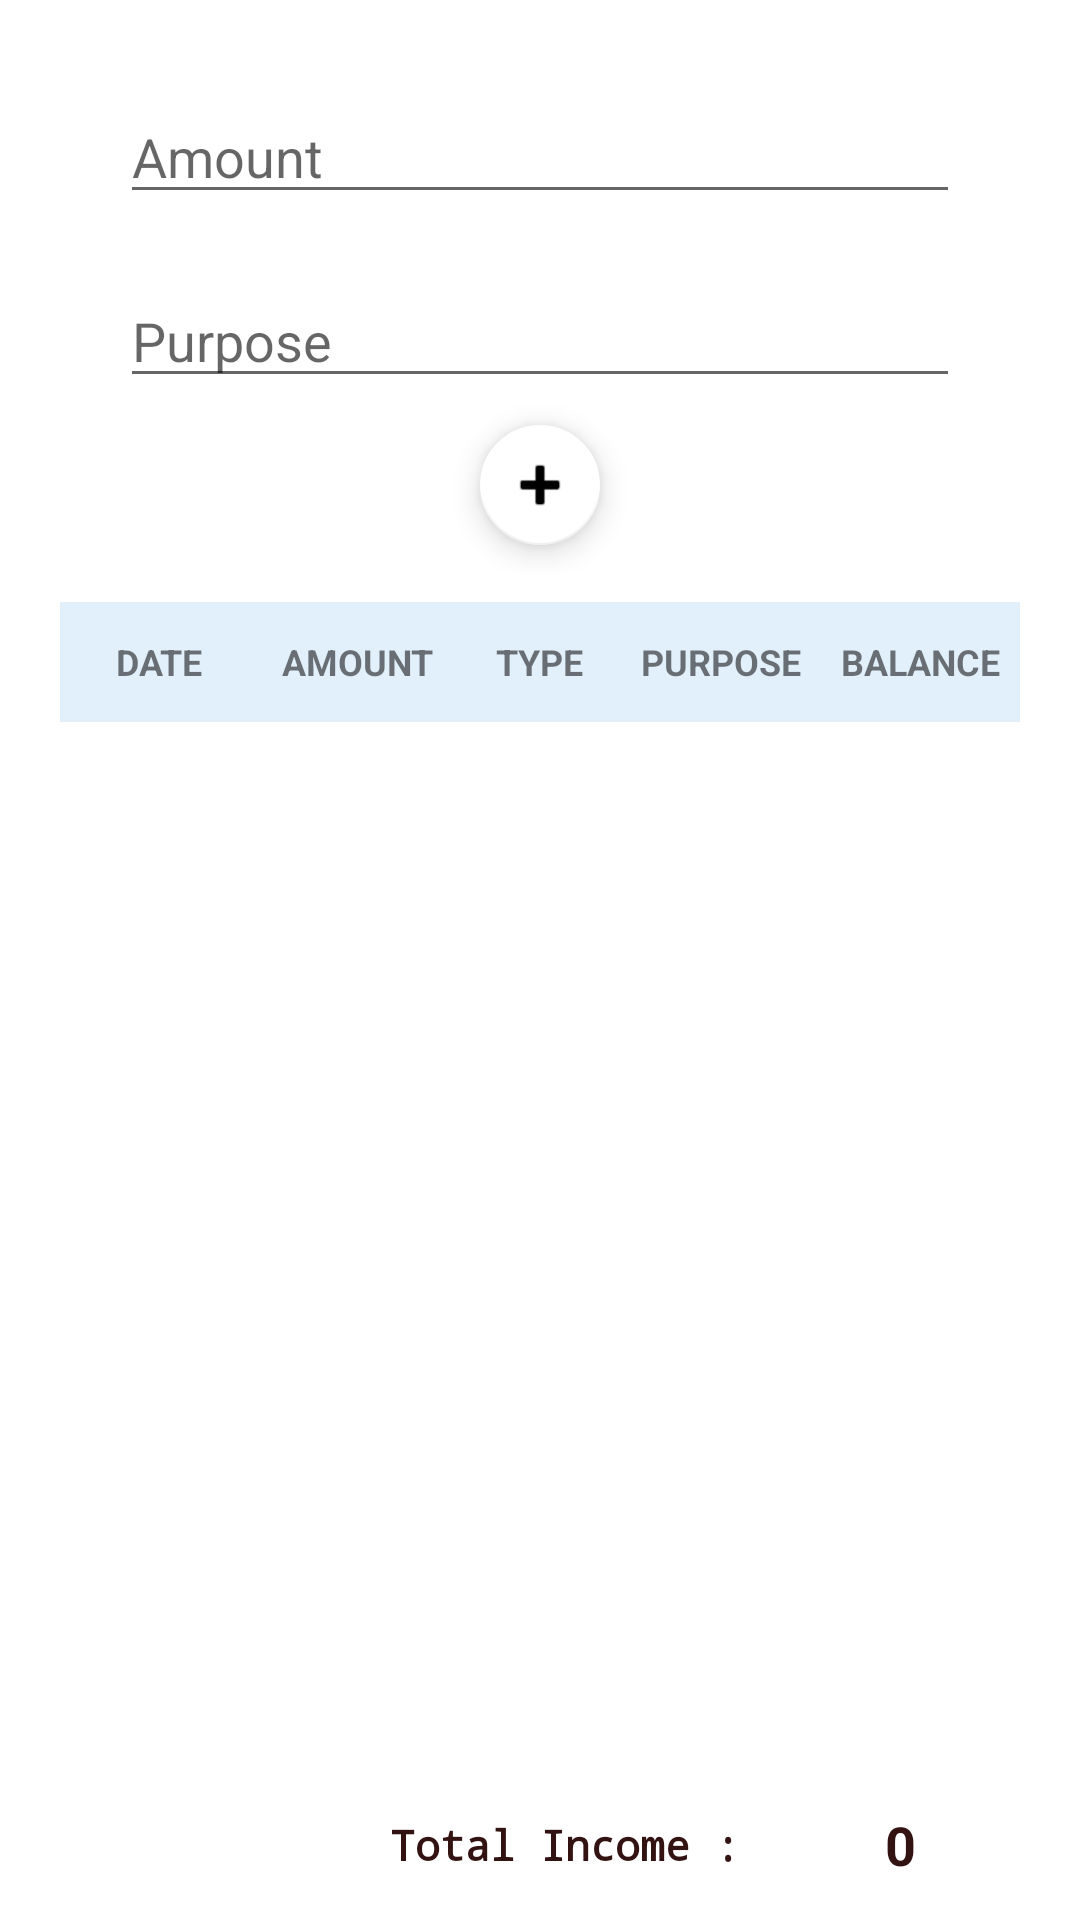

Icons on this 1080w x 1920h Android screen, each with its box as (x1, y1, x2, y2):
add: (480, 465, 600, 548)
